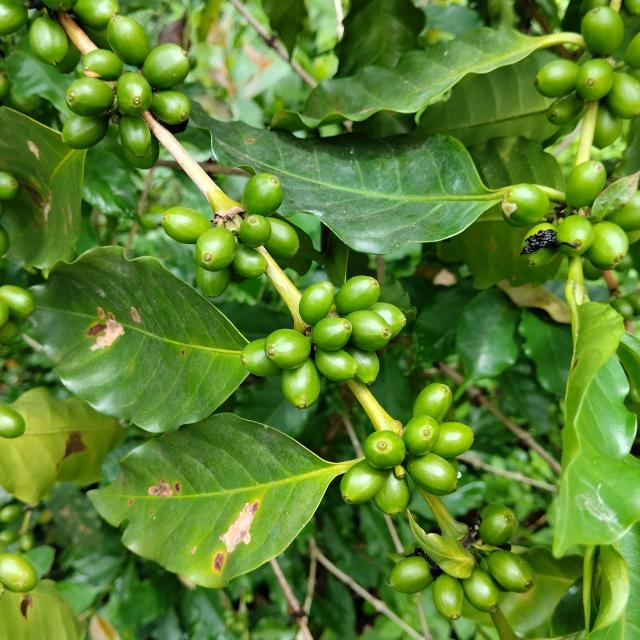green: (407, 453, 458, 497), (142, 43, 190, 89), (106, 14, 149, 65), (487, 550, 536, 594), (587, 220, 630, 270), (502, 183, 550, 227), (582, 5, 625, 54), (281, 358, 321, 410), (341, 460, 386, 505), (566, 160, 608, 208), (28, 15, 68, 64), (65, 76, 114, 116), (241, 172, 283, 217), (265, 329, 311, 370), (346, 310, 392, 351), (161, 206, 210, 244), (150, 89, 191, 133), (335, 275, 380, 315), (196, 227, 236, 271), (372, 470, 410, 516), (536, 58, 580, 97), (61, 114, 109, 149), (391, 557, 435, 595), (462, 568, 499, 613), (576, 58, 615, 100), (480, 505, 519, 547), (363, 431, 406, 469), (299, 281, 335, 326), (413, 384, 453, 424), (557, 215, 596, 256), (402, 415, 441, 456), (342, 344, 380, 386), (432, 422, 475, 459), (116, 71, 152, 115), (240, 339, 281, 377), (433, 574, 465, 622), (607, 72, 640, 118), (264, 218, 299, 260), (315, 348, 358, 382), (0, 554, 36, 594), (606, 190, 640, 232), (594, 102, 624, 148), (370, 302, 407, 339), (72, 0, 119, 29), (311, 318, 352, 351), (547, 92, 586, 125), (231, 244, 267, 278), (195, 265, 232, 298), (0, 285, 34, 318), (238, 214, 271, 248), (522, 222, 556, 251), (53, 38, 80, 73), (0, 0, 27, 34), (0, 407, 25, 439), (523, 248, 560, 267), (0, 171, 18, 200)
